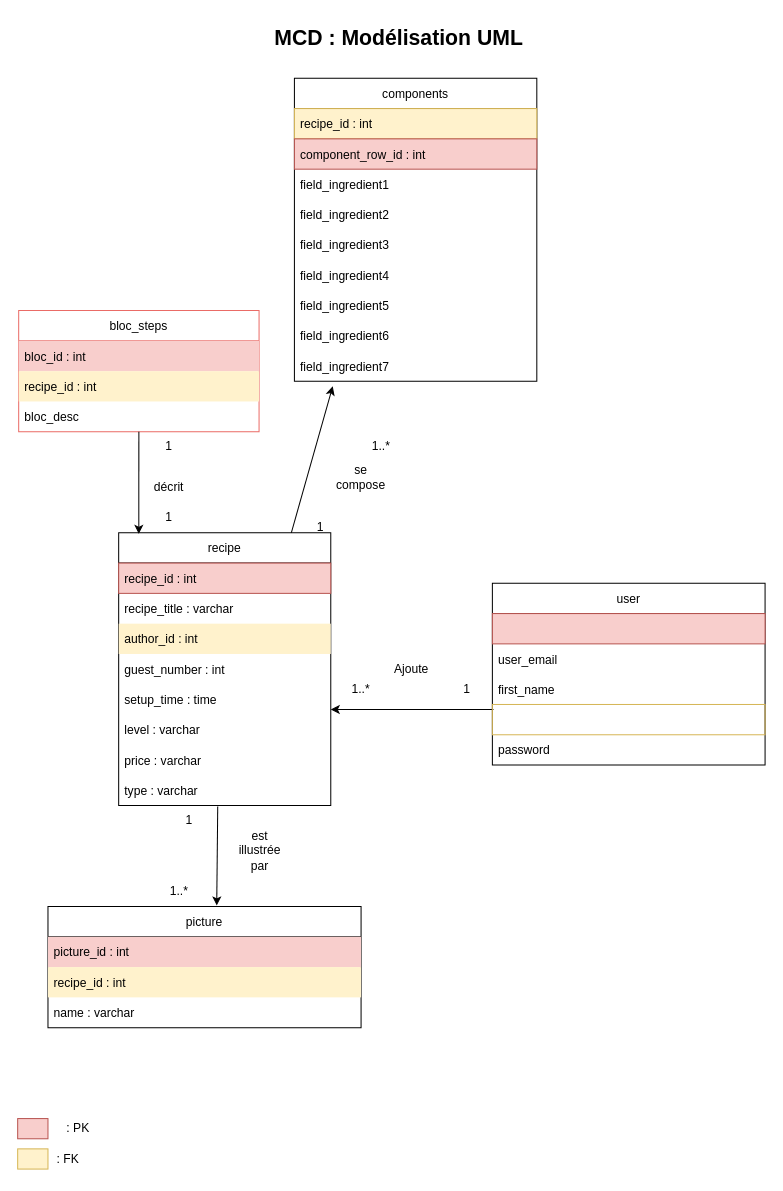
Image size: 783x1191. Some labels were removed from this diagram. Each missing label, with the centre of its shape:
last_name: point (628, 719)
user_id : int: point (628, 628)
